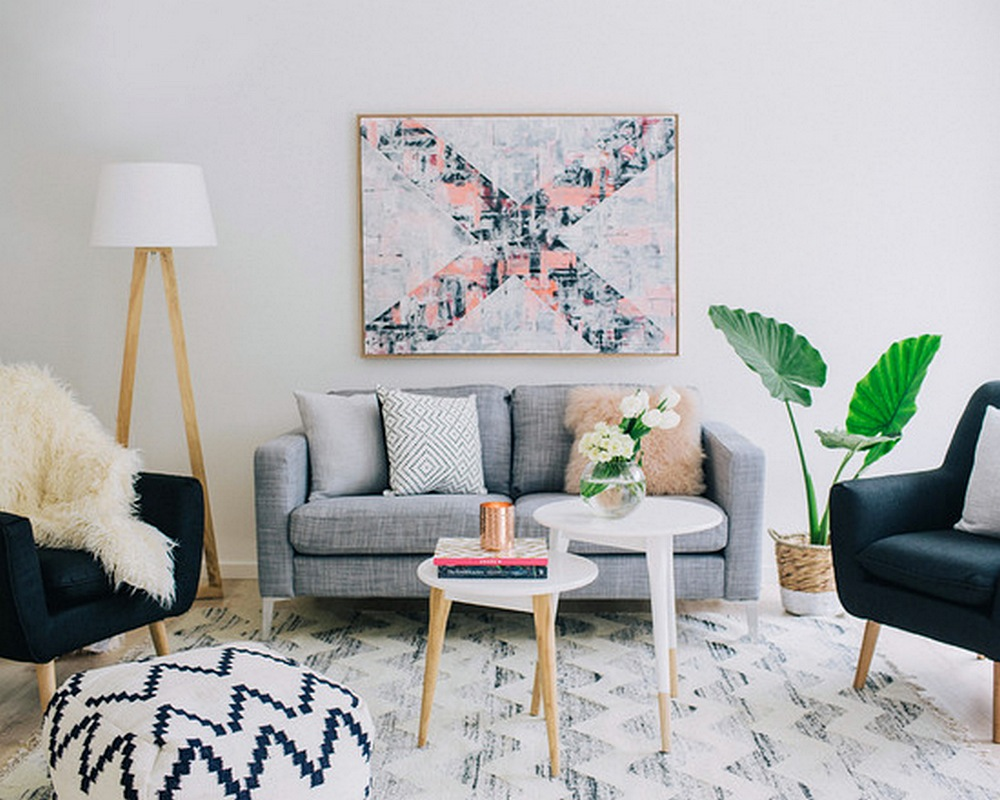bantal: (381, 388, 490, 496), (295, 390, 383, 490)
buku: (436, 537, 552, 583)
gelas: (476, 497, 517, 551)
kursi: (834, 372, 997, 744), (1, 376, 208, 644)
lampu: (90, 154, 222, 435)
lukisan: (356, 106, 684, 360)
meja: (404, 506, 722, 767)
sova: (256, 376, 770, 624)
tanaman: (717, 304, 851, 622), (568, 396, 679, 521)
